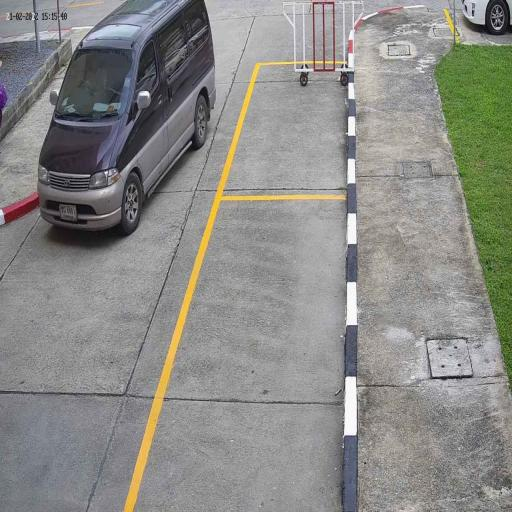car: (34, 0, 218, 237)
